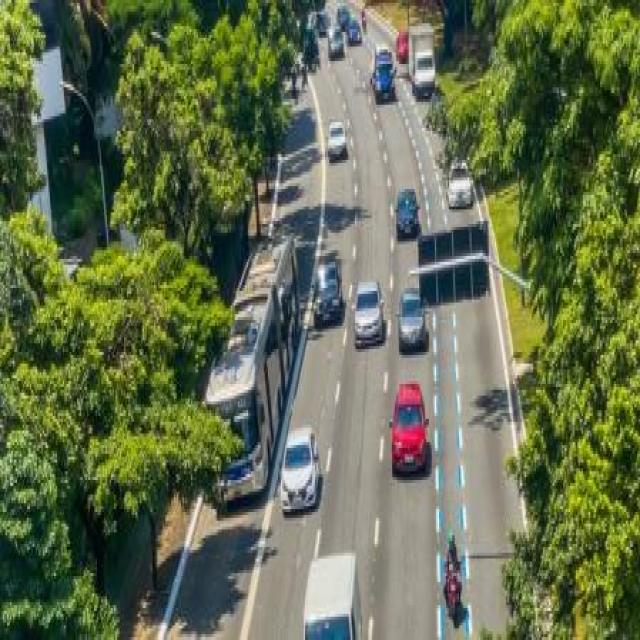BUS: (205, 337, 273, 508)
MOTORCYCLE: (443, 562, 461, 628)
SED: (281, 431, 318, 519), (397, 288, 428, 349), (398, 190, 420, 245)
SUV: (392, 378, 430, 481)
TRUCK: (304, 552, 364, 638), (410, 26, 437, 100), (373, 46, 396, 104)
